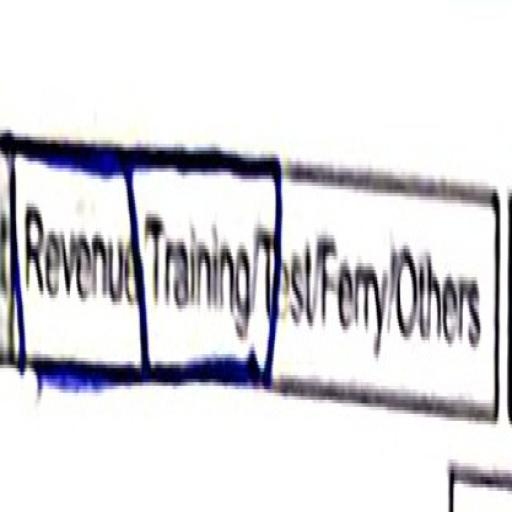check: (4, 68, 142, 451), (146, 102, 259, 428)
